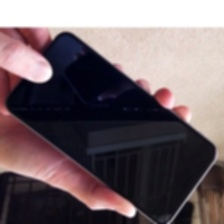phone: (2, 28, 219, 224)
